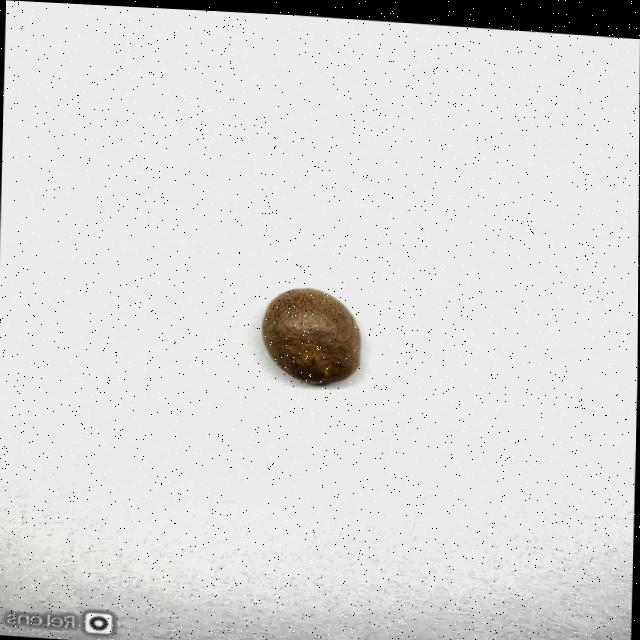Good bean: (260, 280, 364, 383)
